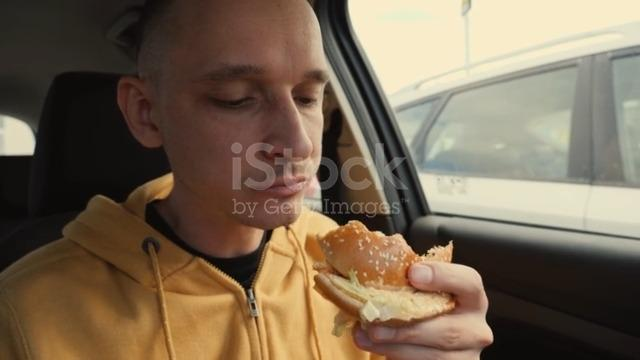Eating: (139, 2, 497, 353)
